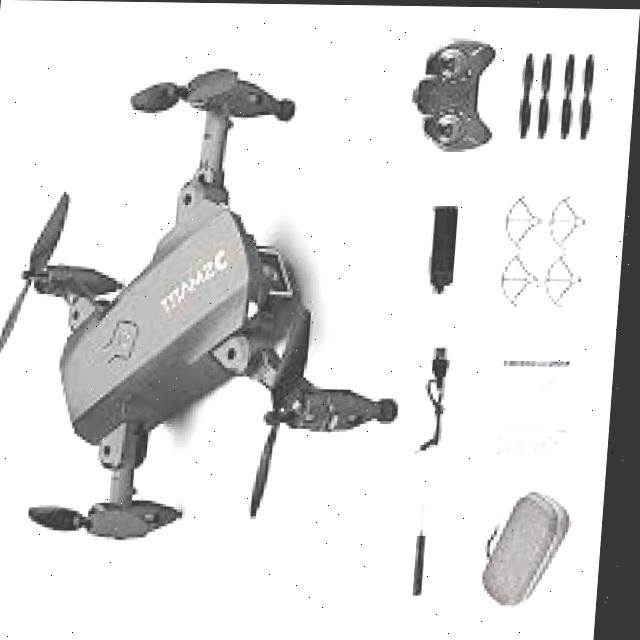drone: (0, 43, 421, 564)
